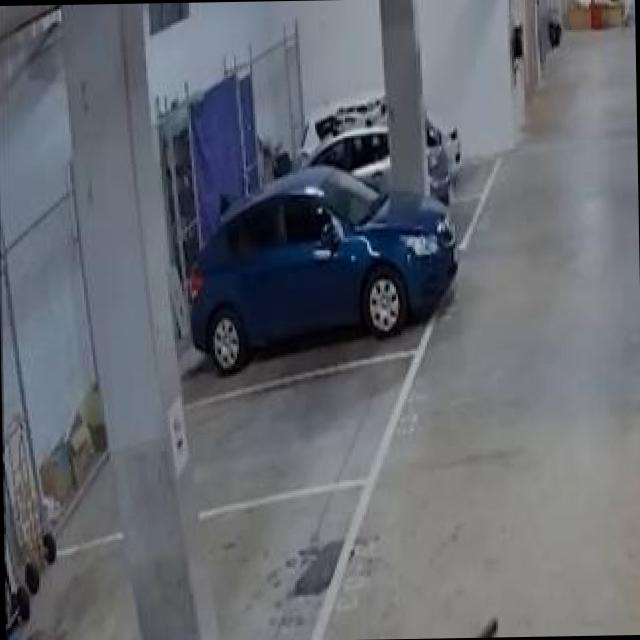Guns: (455, 604, 506, 638)
